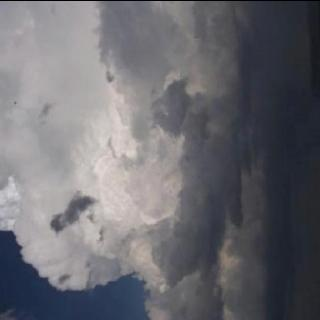Cumulonimbus: (0, 0, 279, 316)
